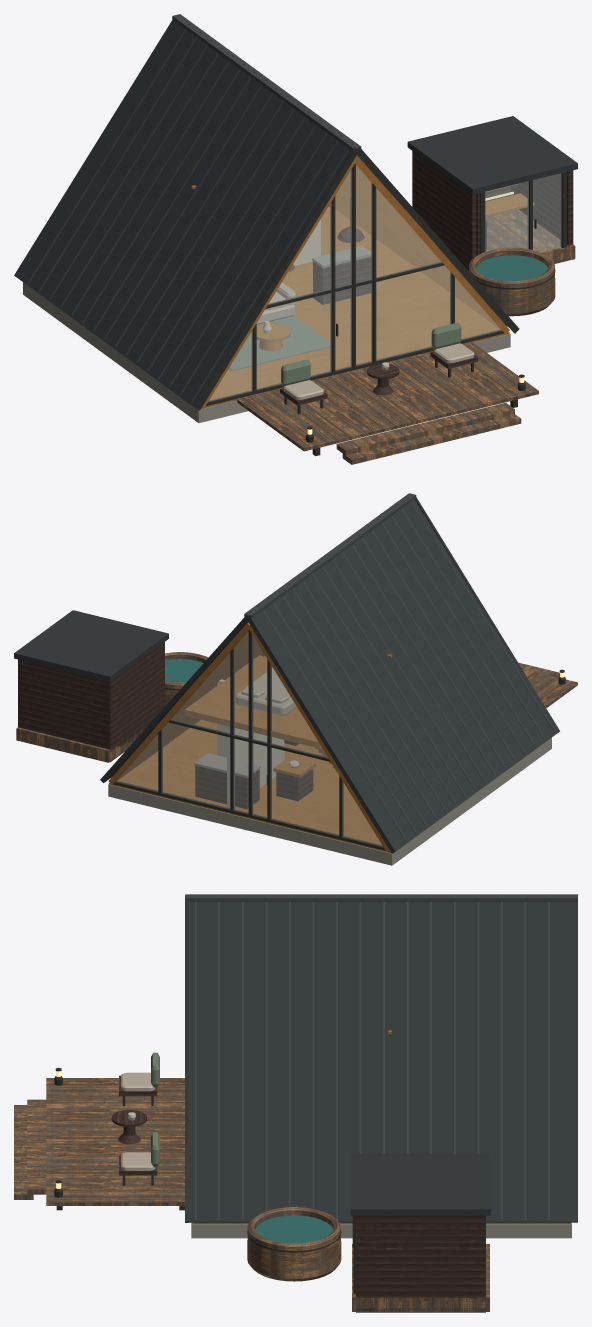
Rendered from aframe-56.glb.
3 views of the same model, one above another, from view 1: azimuth 30°, elevation 25°; view 2: azimuth 150°, elevation 25°; view 3: azimuth 270°, elevation 25° (orthographic). The views are drawn at different scales.
Visible parts, largest first — view 1: Roof, Glass, Deck, Oak, Frame, Seam, BlackCladding, Concrete, Sage, Cladding, Linen, Water (+1 smaller); view 2: Roof, Glass, Oak, Seam, Cladding, Concrete, Frame, BlackCladding, Deck, Plaster, Linen, Water; view 3: Roof, Deck, Seam, BlackCladding, Concrete, Frame, Water, Cladding, Linen, Sage.
Part boxes in pixels (x1,y1,x2,y2): Roof: (14,20,577,407); Glass: (208,165,561,401); Deck: (236,209,575,464); Oak: (191,155,534,408); Frame: (192,146,566,456); Seam: (28,14,361,402); BlackCladding: (412,151,573,270); Concrete: (23,246,510,422); Sage: (229,315,461,386); Cladding: (280,186,510,405); Linen: (256,282,474,399); Water: (476,255,547,280); Roof: (14,499,559,853); Glass: (116,631,382,846); Oak: (108,622,391,853); Seam: (244,493,555,841); Cladding: (20,660,313,809); Concrete: (108,737,551,865); Frame: (113,494,567,851); BlackCladding: (18,642,164,762); Deck: (16,652,577,762); Plaster: (217,679,284,807); Linen: (235,668,296,715); Water: (165,659,203,682); Roof: (185,902,577,1222); Deck: (14,1078,489,1311); Seam: (185,894,577,1219); BlackCladding: (352,1215,485,1312); Concrete: (191,1222,571,1238); Frame: (52,895,390,1293); Water: (255,1215,333,1243); Cladding: (111,1075,157,1175); Linen: (121,1072,155,1170); Sage: (151,1052,159,1166).
Bounding box in the file's own units: 11.71 × 5.88 × 11.49.
Materials: 17 (4 with a texture image).
